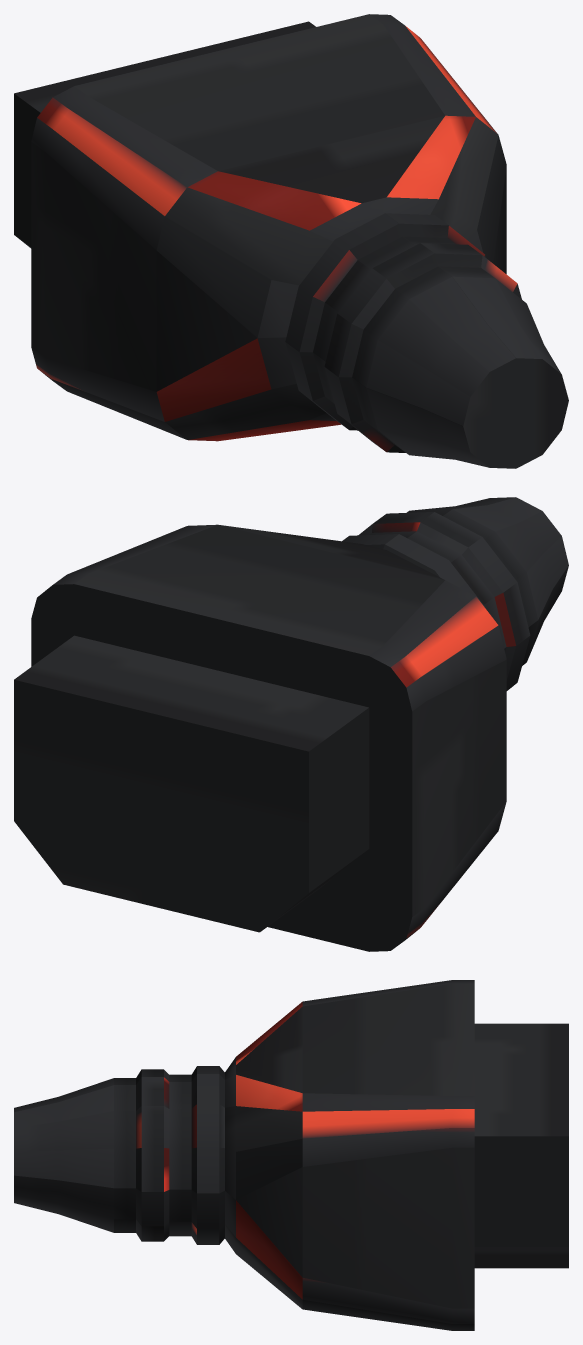
File: power_connector.obj
3 renders of one model, top to bottom at view 1: azimuth 30°, elevation 25°; view 2: azimuth 150°, elevation 25°; view 3: azimuth 270°, elevation 25°, orthographic. The views are drawn at different scales.
Parts seen in each view (by area): view 1: connector_body, connector_mate; view 2: connector_body, connector_mate; view 3: connector_body, connector_mate.
Part boxes in pixels (x1,y1,x2,y2): connector_body: (31,14,568,468); connector_mate: (14,21,315,248); connector_body: (31,497,568,951); connector_mate: (14,635,369,932); connector_body: (14,980,474,1330); connector_mate: (474,1023,568,1268).
Size of the model in its own units: 0.0465 by 0.0345 by 0.075.
